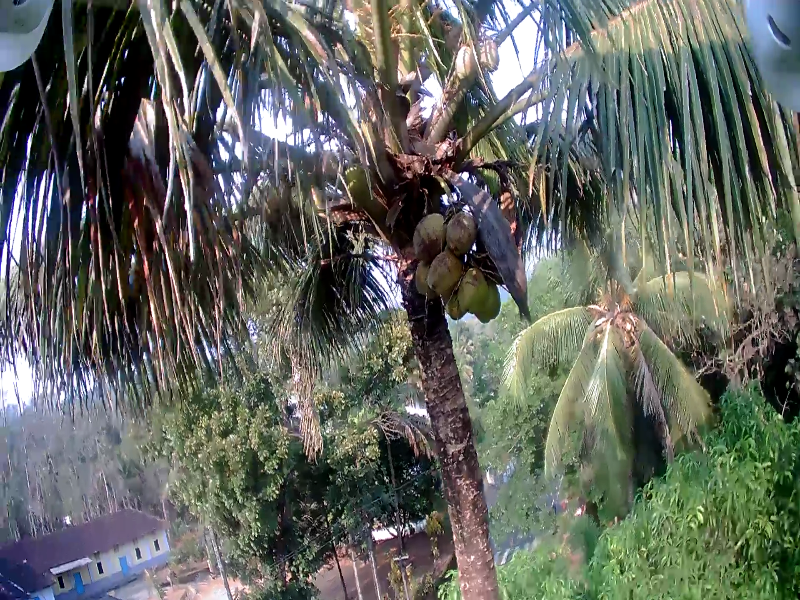coconut: (458, 267, 485, 306), (452, 210, 475, 255), (453, 46, 474, 93), (341, 162, 368, 198), (418, 217, 442, 256), (431, 250, 461, 281), (475, 35, 497, 75), (410, 260, 432, 293), (483, 281, 501, 320), (445, 292, 464, 322), (296, 97, 314, 123)
